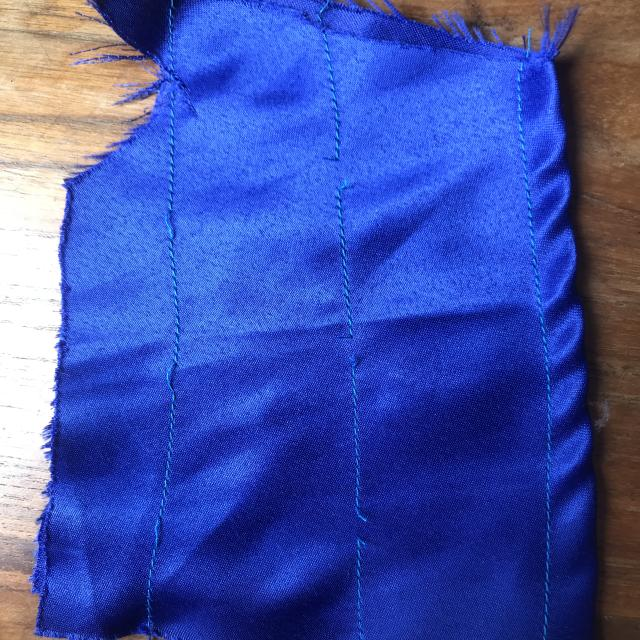broken: (309, 143, 370, 210), (320, 311, 380, 373), (345, 497, 382, 554)
good: (537, 437, 566, 519)
skip: (153, 344, 210, 404), (135, 503, 179, 555), (150, 194, 187, 249)
